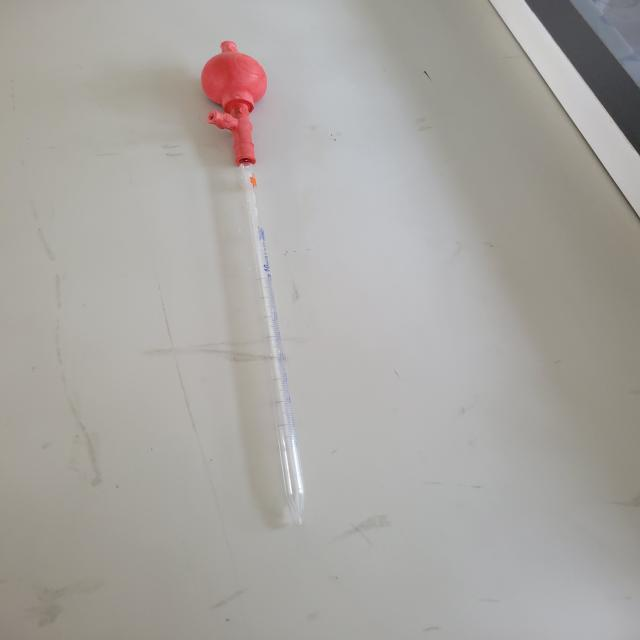Volumetric_Pipet: (157, 19, 368, 540)
